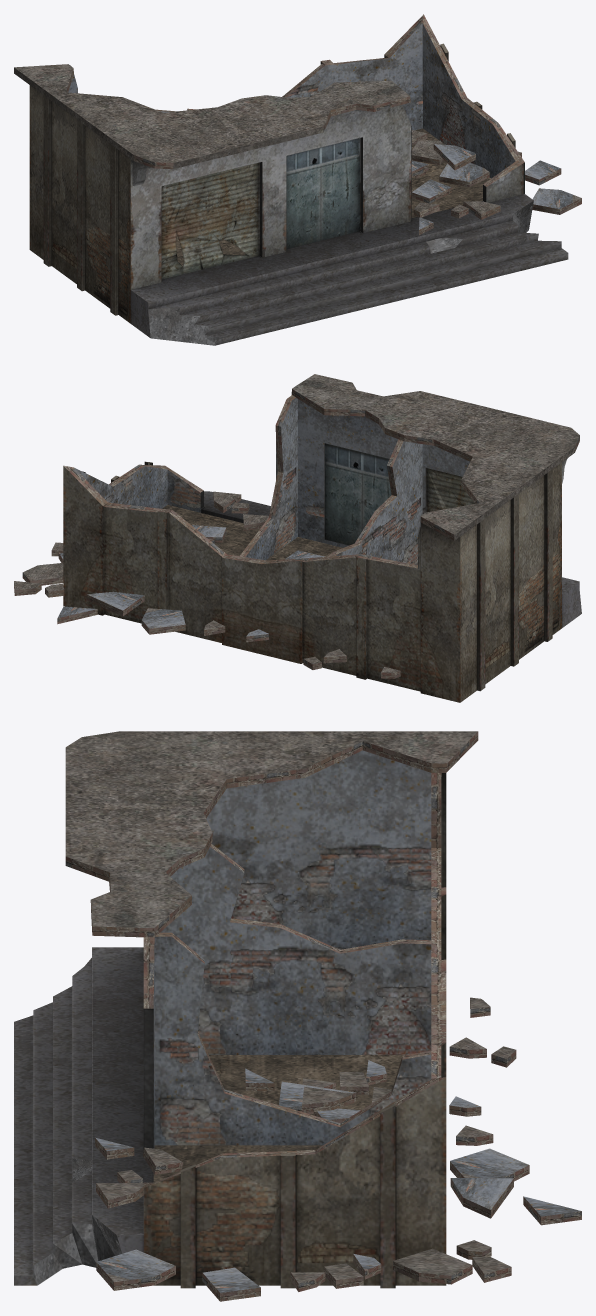
The model's file is buildings_20_ruin.FBX.
3 renders of one model, top to bottom at view 1: azimuth 30°, elevation 25°; view 2: azimuth 150°, elevation 25°; view 3: azimuth 270°, elevation 25°, orthographic. The views are drawn at different scales.
Visible parts, largest first — view 1: Object004; view 2: Object004; view 3: Object004.
Boxes of the visible parts, x1,y1,x2,y2 form: Object004: (14,14,581,345); Object004: (14,374,581,702); Object004: (14,731,581,1301).
Bounding box in the file's own units: 1053 × 751 × 384.
1 material, 1 textured.
